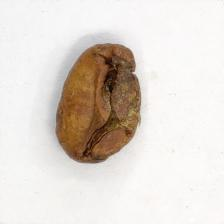NG: (90, 43, 140, 162)
